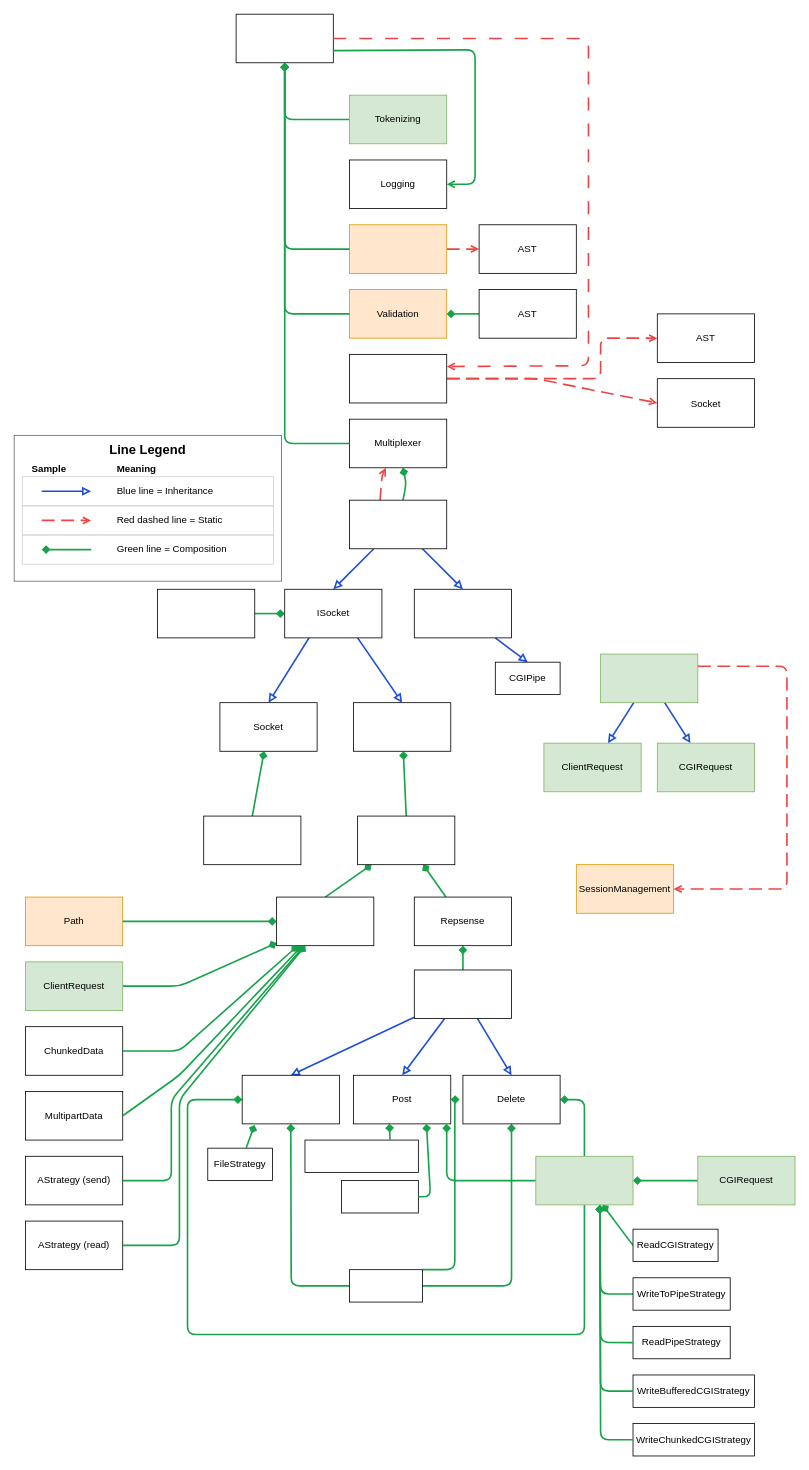
The diagram is 809 pixels wide and 1470 high, and some of its shapes have lost their labels. The centre of each missing label's shape, as x and y in pixels:
"AFd" goes at pixel 398 524.
"AMethod" goes at pixel 463 994.
"APipe" goes at pixel 463 613.
"ARequest" goes at pixel 649 678.
"BuffersStrategy" goes at pixel 385 1285.
"CGI" goes at pixel 584 1180.
"ClientSocket" goes at pixel 402 726.
"Config" goes at pixel 398 378.
"ConnectionContext" goes at pixel 252 840.
"GET" goes at pixel 290 1099.
"HTTPContext" goes at pixel 406 840.
"IContext" goes at pixel 206 613.
"main" goes at pixel 284 38.
"MultipartUploadStrategy" goes at pixel 361 1155.
"Parsing" goes at pixel 398 248.
"Routing" goes at pixel 325 921.
"UploadStrategy" goes at pixel 379 1196.
